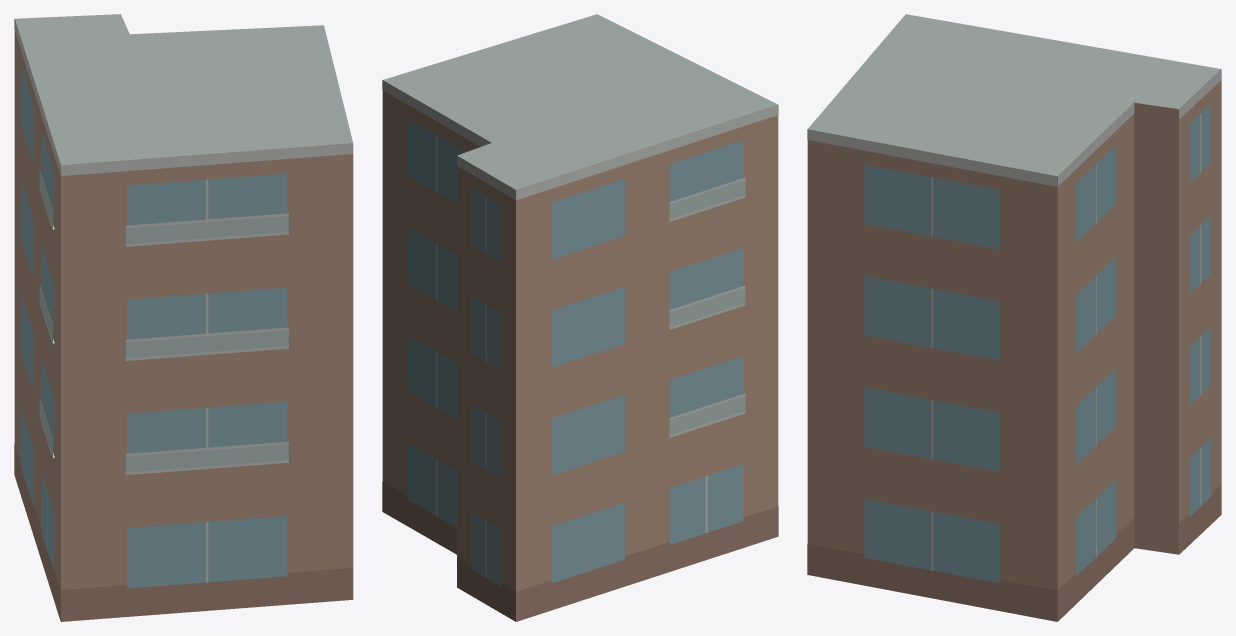
Rendered from survey-upis-32501370.glb.
3 views of the same model, side by side, from view 1: azimuth 30°, elevation 25°; view 2: azimuth 150°, elevation 25°; view 3: azimuth 270°, elevation 25° (orthographic). The views are drawn at different scales.
Visible parts, largest first — view 1: survey-upis-32501370.tmp; view 2: survey-upis-32501370.tmp; view 3: survey-upis-32501370.tmp.
Part boxes in pixels (x1,y1,x2,y2): survey-upis-32501370.tmp: [14, 14, 353, 621]; survey-upis-32501370.tmp: [382, 14, 778, 621]; survey-upis-32501370.tmp: [807, 14, 1221, 621].
Size of the model in its own units: 8.02 by 10.25 by 8.64.
